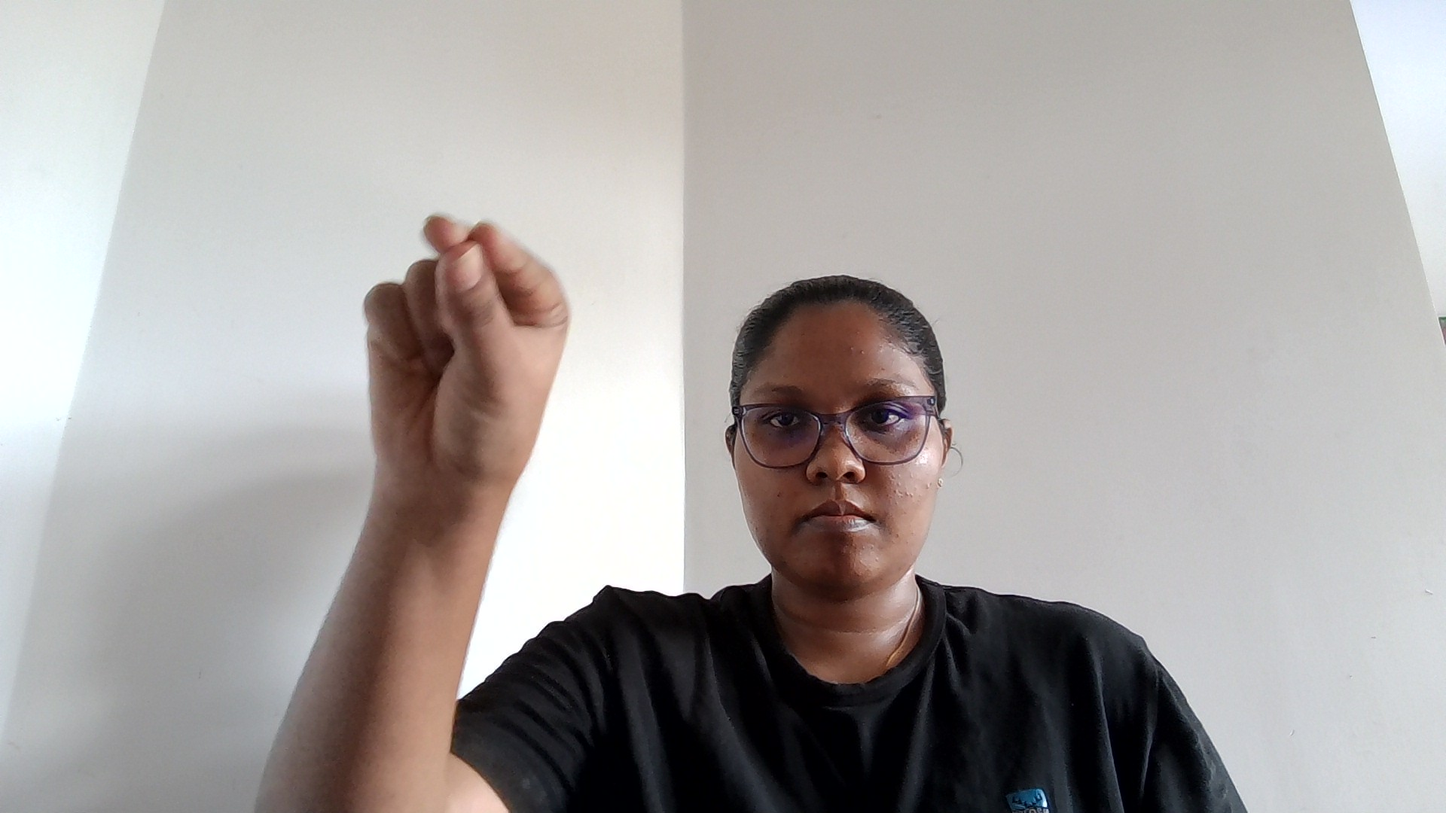No: (205, 164, 645, 590)
